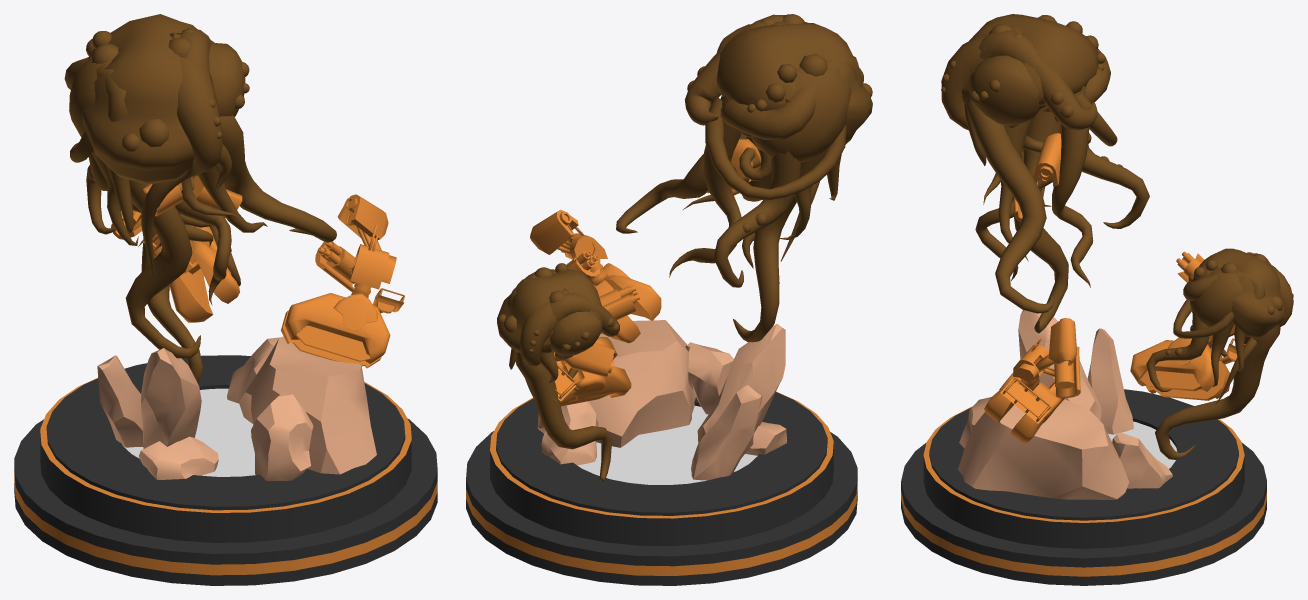
The model's file is Statuetteee.fbx.
3 renders of one model, left to right at view 1: azimuth 30°, elevation 25°; view 2: azimuth 150°, elevation 25°; view 3: azimuth 270°, elevation 25°, orthographic. The views are drawn at different scales.
Parts seen in each view (by area): view 1: Cylinder, Sphere.000, Rock1AutoRetopo.002, Robot1, Robot1.001, Sphere.002, Robot1.002; view 2: Cylinder, Sphere.000, Rock1AutoRetopo.002, Sphere.002, Robot1, Robot1.001, Robot1.002; view 3: Cylinder, Sphere.000, Rock1AutoRetopo.002, Sphere.002, Robot1, Robot1.001, Robot1.002.
Part boxes in pixels (bbox=[...]): Cylinder: bbox=[14, 355, 437, 585]; Sphere.000: bbox=[64, 14, 336, 358]; Rock1AutoRetopo.002: bbox=[97, 336, 376, 480]; Robot1: bbox=[281, 194, 404, 368]; Robot1.001: bbox=[111, 210, 239, 322]; Sphere.002: bbox=[132, 201, 240, 383]; Robot1.002: bbox=[143, 175, 242, 216]; Cylinder: bbox=[466, 391, 857, 585]; Sphere.000: bbox=[616, 14, 872, 342]; Rock1AutoRetopo.002: bbox=[537, 320, 786, 480]; Sphere.002: bbox=[497, 263, 619, 481]; Robot1: bbox=[530, 209, 661, 343]; Robot1.001: bbox=[554, 285, 639, 406]; Robot1.002: bbox=[706, 139, 760, 195]; Cylinder: bbox=[901, 389, 1266, 585]; Sphere.000: bbox=[941, 14, 1149, 333]; Rock1AutoRetopo.002: bbox=[958, 310, 1172, 499]; Sphere.002: bbox=[1146, 248, 1293, 459]; Robot1: bbox=[984, 318, 1080, 443]; Robot1.001: bbox=[1130, 251, 1245, 400]; Robot1.002: bbox=[1013, 133, 1061, 221].
Bounding box in the file's own units: 600 × 808 × 644.
